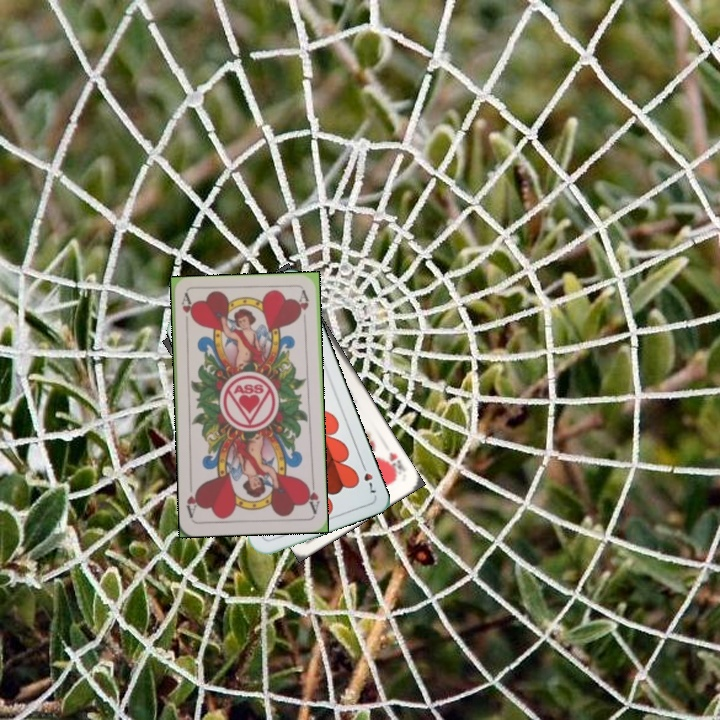H7: (357, 458, 379, 497)
HA: (302, 476, 322, 516), (177, 291, 195, 323)
HK: (383, 448, 409, 479)
